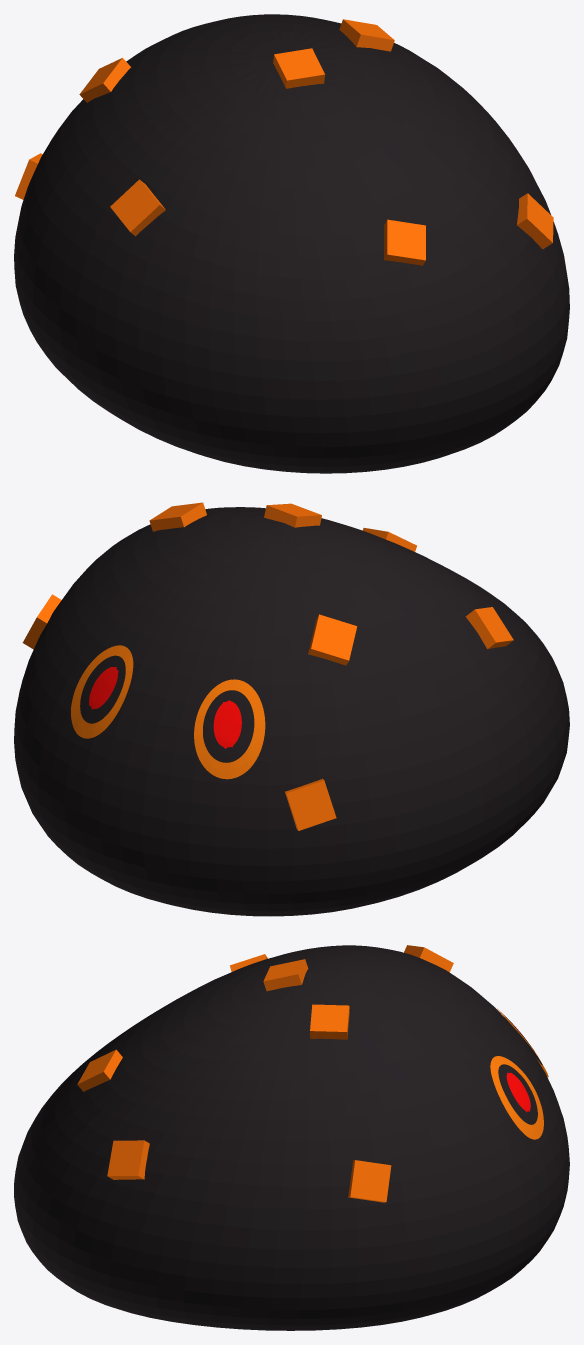
File: PhysSLime.fbx
3 views of the same model, one above another, from view 1: azimuth 30°, elevation 25°; view 2: azimuth 150°, elevation 25°; view 3: azimuth 270°, elevation 25° (orthographic). The views are drawn at different scales.
Parts seen in each view (by area): view 1: Sphere; view 2: Sphere; view 3: Sphere.
Boxes of the visible parts, left/top/right/bottom form: Sphere: left=14, top=14, right=569, bottom=473; Sphere: left=14, top=502, right=569, bottom=916; Sphere: left=14, top=945, right=569, bottom=1330.
Size of the model in its own units: 180 by 122 by 204.
